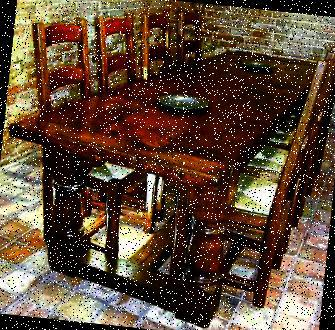Mesa: (0, 27, 330, 297)
Silla: (6, 8, 179, 284), (165, 31, 334, 307), (168, 34, 334, 309), (213, 22, 334, 227), (74, 11, 193, 218), (126, 12, 231, 202), (164, 9, 266, 152)
